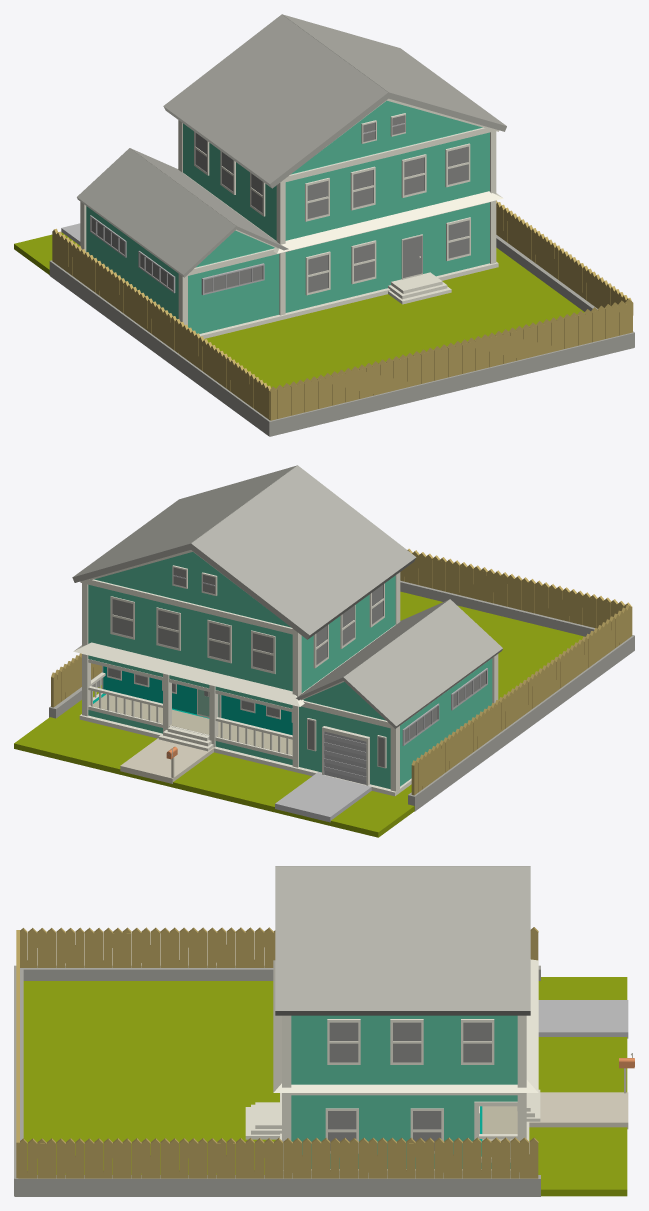
Rendered from house6.fbx.
The picture shows the model from 3 angles, top to bottom: view 1: azimuth 30°, elevation 25°; view 2: azimuth 150°, elevation 25°; view 3: azimuth 270°, elevation 25°; orthographic projection. The views are drawn at different scales.
Parts seen in each view (by area): view 1: Cube_27; view 2: Cube_27; view 3: Cube_27.
Boxes of the visible parts, x1,y1,x2,y2 form: Cube_27: [14, 14, 634, 436]; Cube_27: [14, 465, 634, 837]; Cube_27: [14, 866, 634, 1196].
Size of the model in its own units: 2228 by 1219 by 2738.
